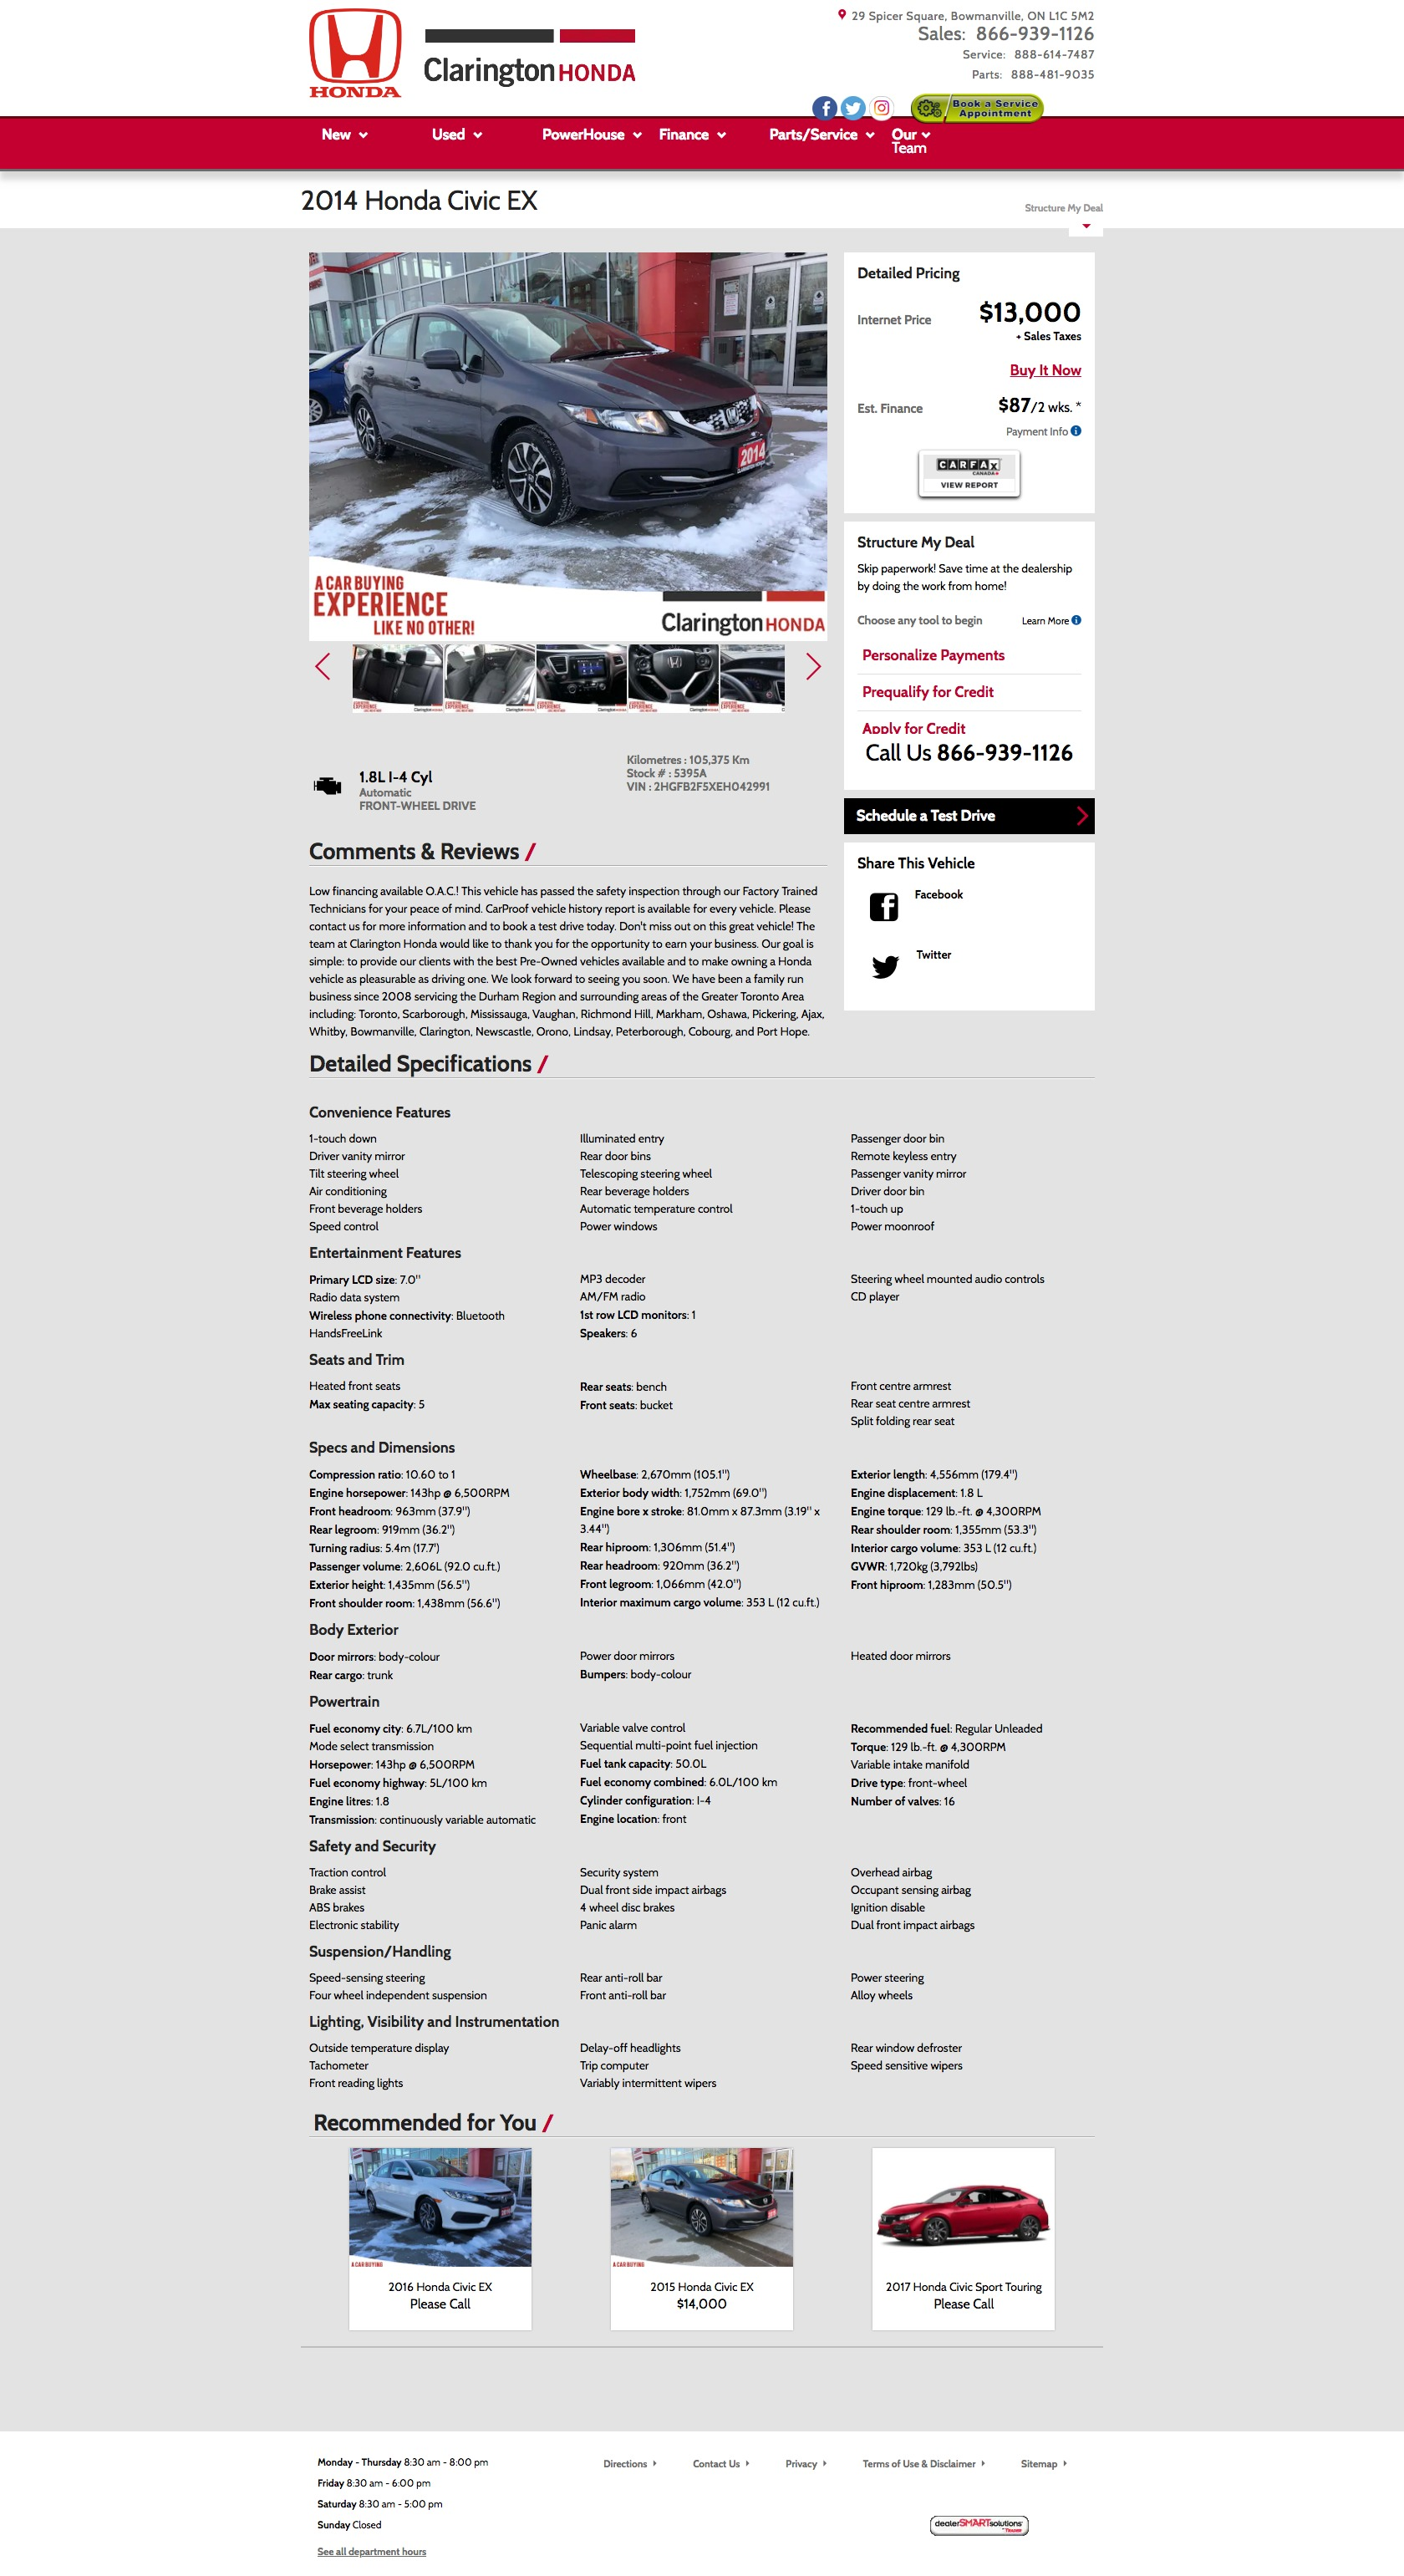car: (804, 654, 825, 681)
